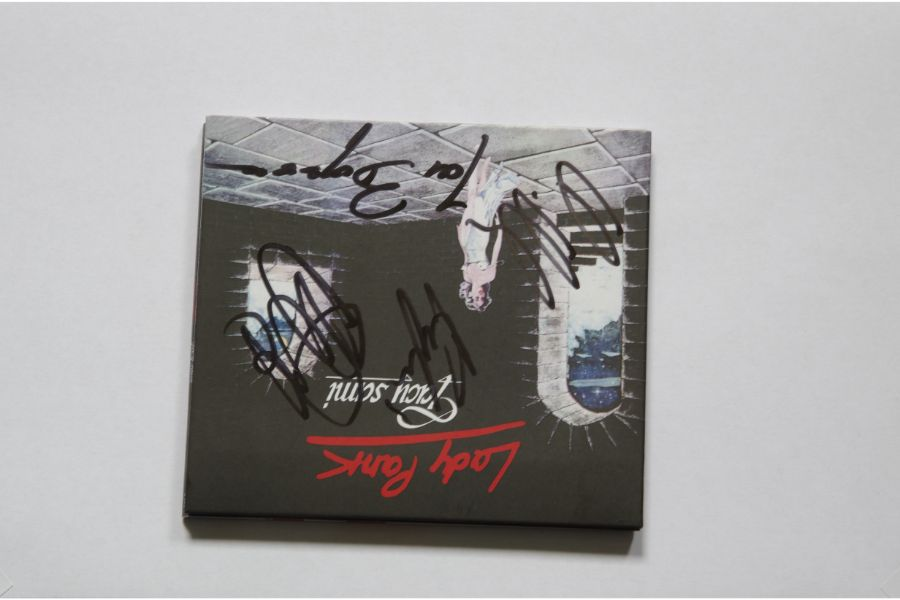album: (184, 114, 651, 534)
